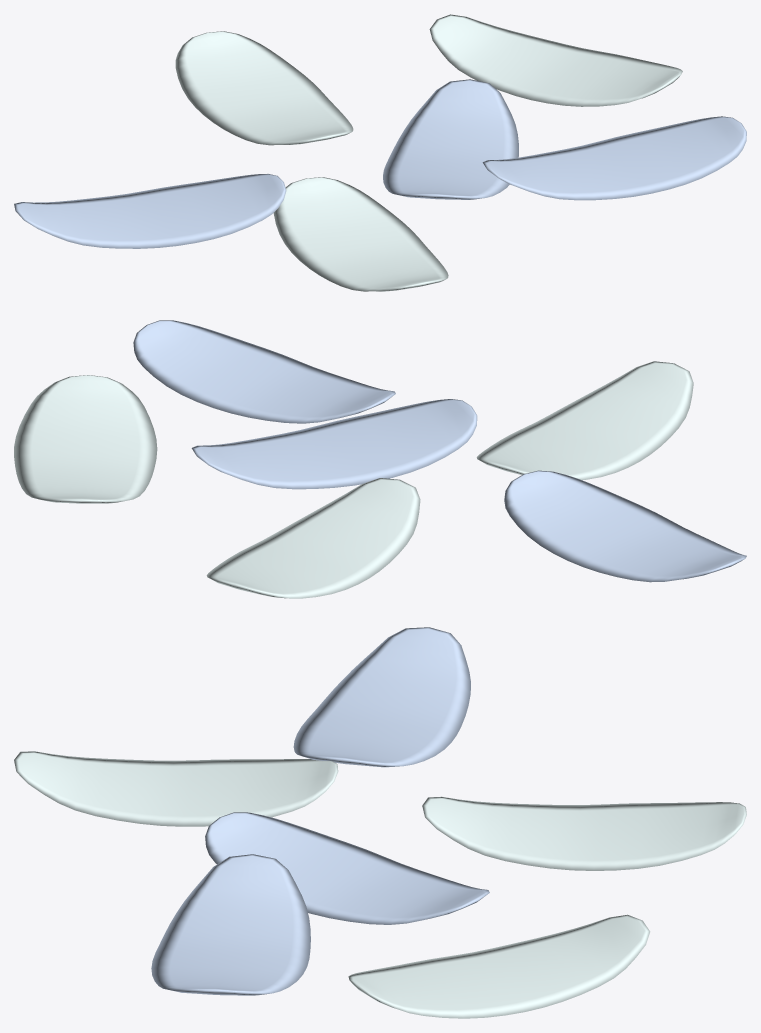
Rendered from BluePetals.fbx.
3 renders of one model, top to bottom at view 1: azimuth 30°, elevation 25°; view 2: azimuth 150°, elevation 25°; view 3: azimuth 270°, elevation 25°, orthographic. The views are drawn at different scales.
Parts seen in each view (by area): view 1: Petel.002, Petel, Petel.005, Petel.001, Petel.004, Petel.003; view 2: Petel.004, Petel.003, Petel, Petel.002, Petel.005, Petel.001; view 3: Petel.005, Petel.001, Petel.002, Petel, Petel.004, Petel.003.
Boxes of the visible parts, x1,y1,x2,y2 form: Petel.002: (482,116,746,200); Petel: (14,174,286,248); Petel.005: (175,31,353,145); Petel.001: (273,177,448,291); Petel.004: (429,14,682,106); Petel.003: (383,79,518,199); Petel.004: (14,375,157,503); Petel.003: (191,399,477,489); Petel: (504,470,746,582); Petel.002: (133,320,395,423); Petel.005: (206,478,420,598); Petel.001: (476,361,693,480); Petel.005: (422,796,746,870); Petel.001: (14,751,338,826); Petel.002: (151,854,310,995); Petel: (293,627,470,767); Petel.004: (348,914,650,1018); Petel.003: (205,812,489,924).
Size of the model in its own units: 63.17 by 2.47 by 52.17.
